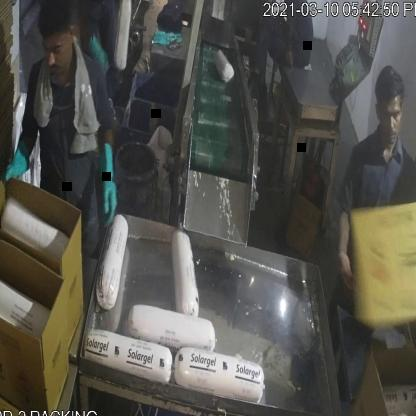glove: (97, 127, 127, 242)
no_glove: (332, 189, 360, 309)
